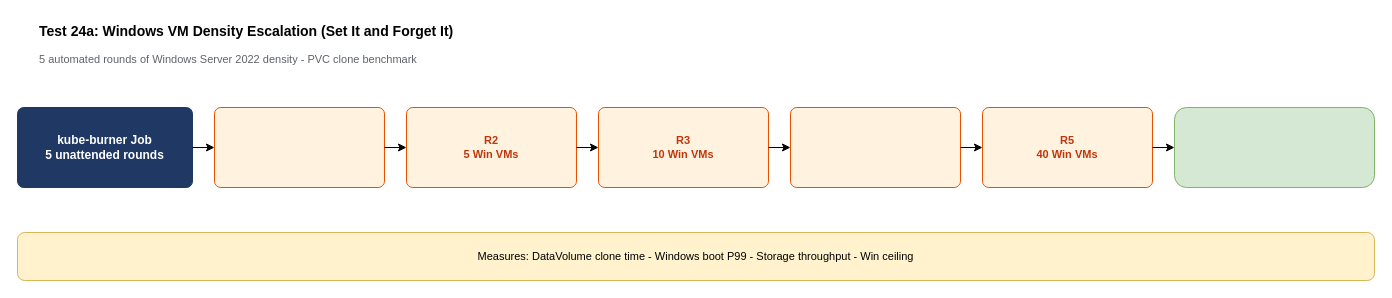
This 1392x298 diagram has some shape labels left out. Each missing label, with the box of its shape:
R1 2 Win VMs: (214, 106, 384, 188)
R4 20 Win VMs: (790, 106, 960, 188)
Windows density ceiling ✓: (1174, 106, 1374, 188)
